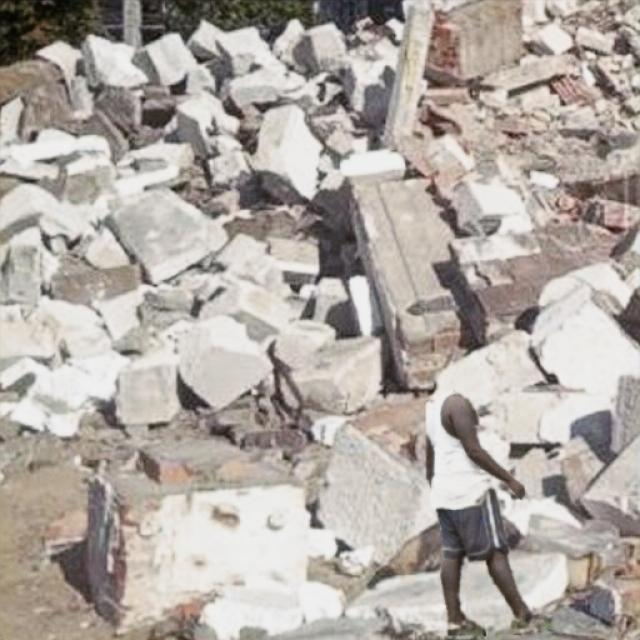Person in Rubble: (426, 390, 552, 635)
